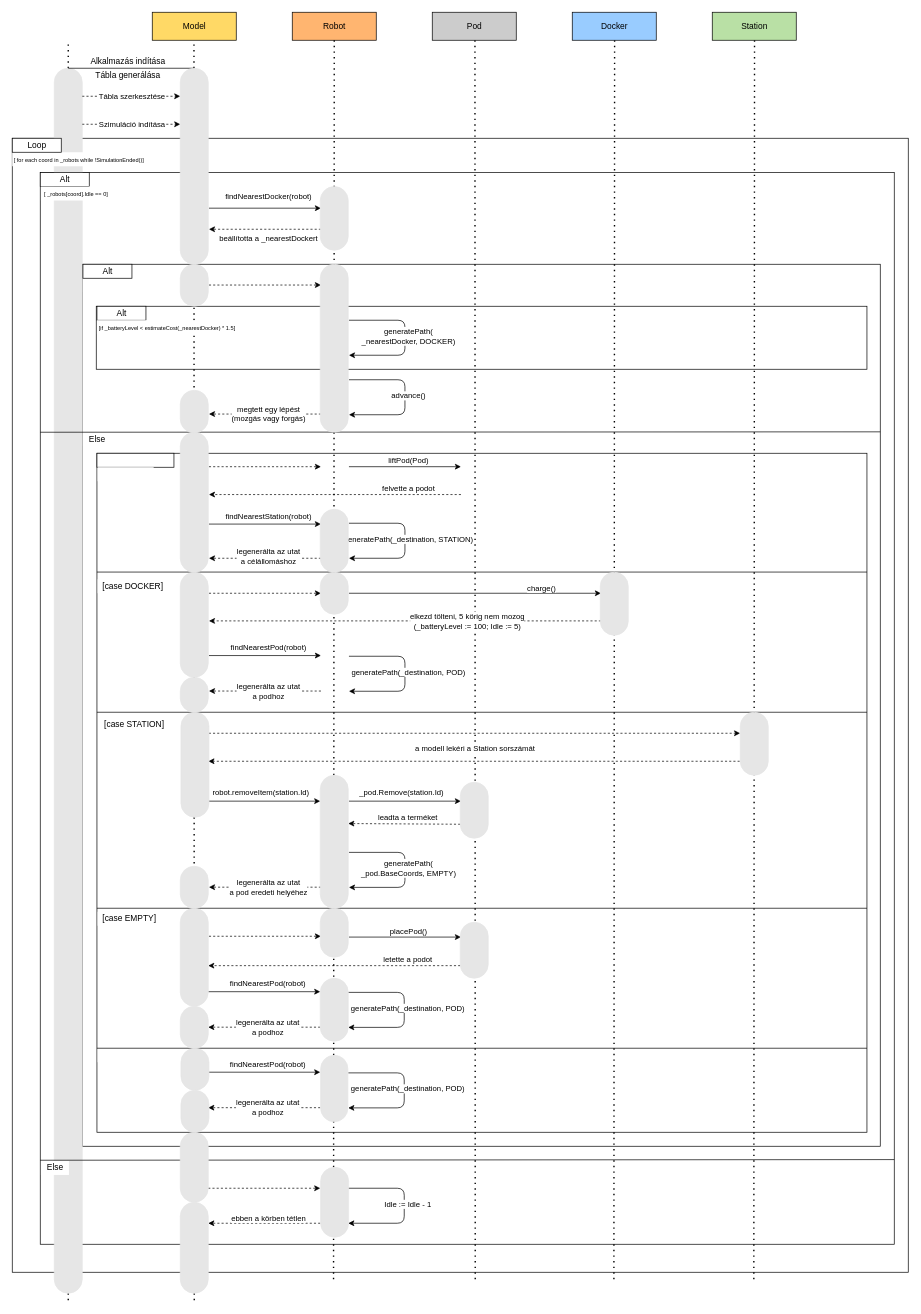
Image size: 921x1314. Some labels were removed from this diagram. Here are the shapes that lost their labels. From the top down, the centre of each, then its label:
point (132, 285): [if !isEmpty(robots[coord].coordsList)]
point (125, 474): [case POD]
point (135, 460): Switch(_destType)
point (118, 1055): [default]
